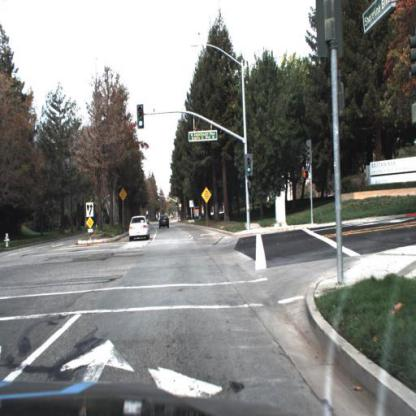car: (128, 211, 151, 240), (158, 214, 170, 230)
trafficLight-Green: (137, 104, 145, 129), (245, 154, 253, 177)
